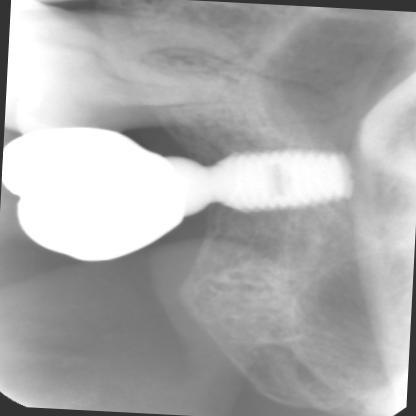Bicon: (218, 146, 352, 219)
